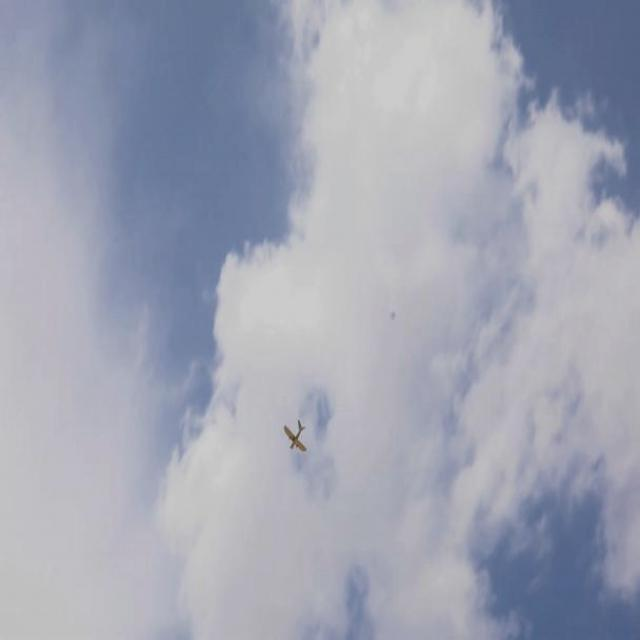iha: (282, 417, 311, 454)
